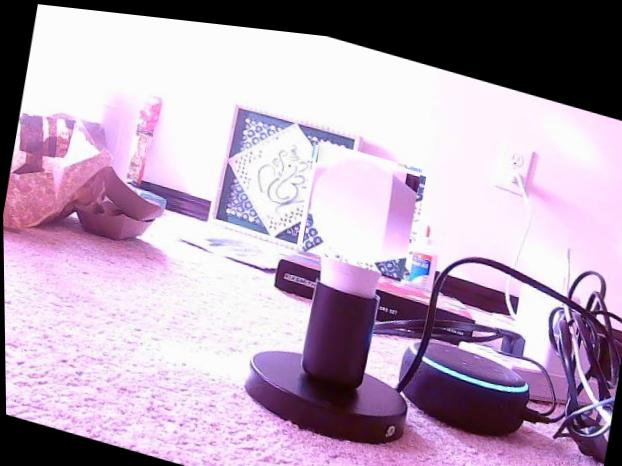Fan: (296, 133, 423, 270)
